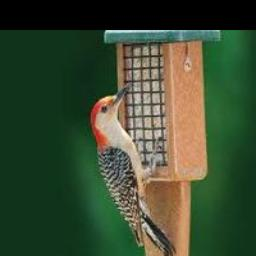Woodpecker: (91, 82, 175, 254)
